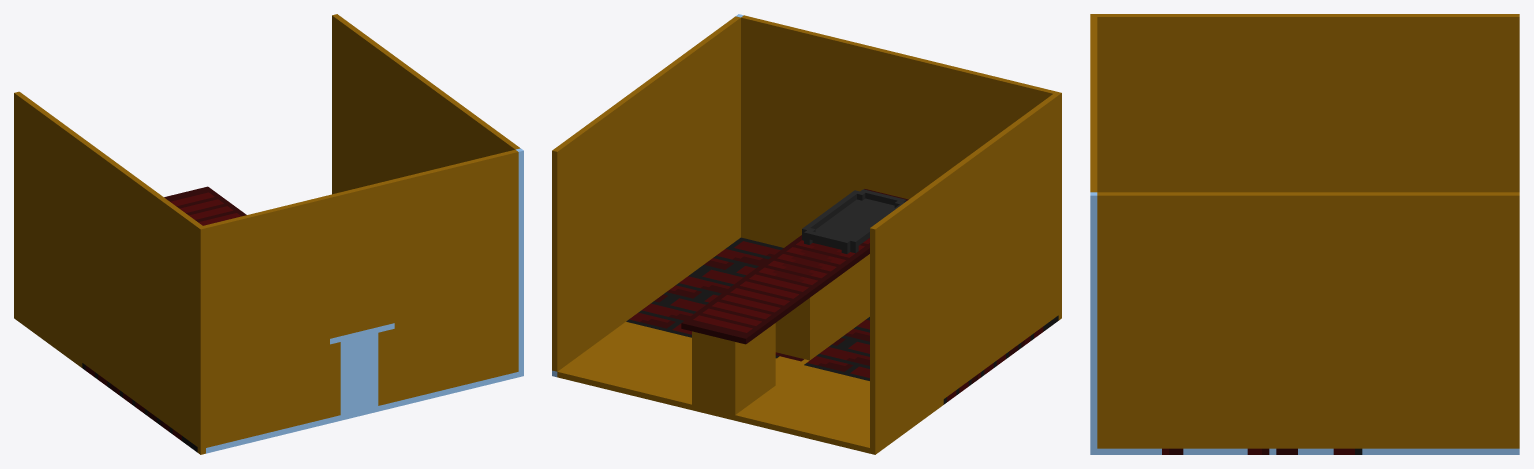
Rendered from tea room_mum.obj.
3 views of the same model, side by side, from view 1: azimuth 30°, elevation 25°; view 2: azimuth 150°, elevation 25°; view 3: azimuth 270°, elevation 25° (orthographic). The views are drawn at different scales.
Bounding box in the file's own units: 6 × 4 × 6.
